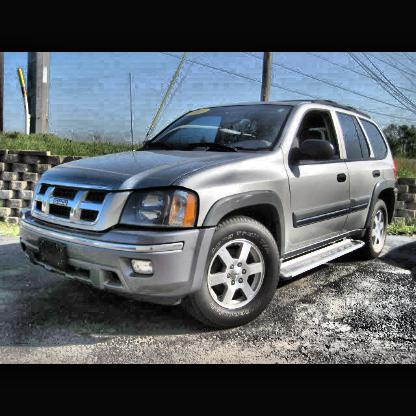Isuzu Ascender SUV 2008: (17, 97, 403, 334)
